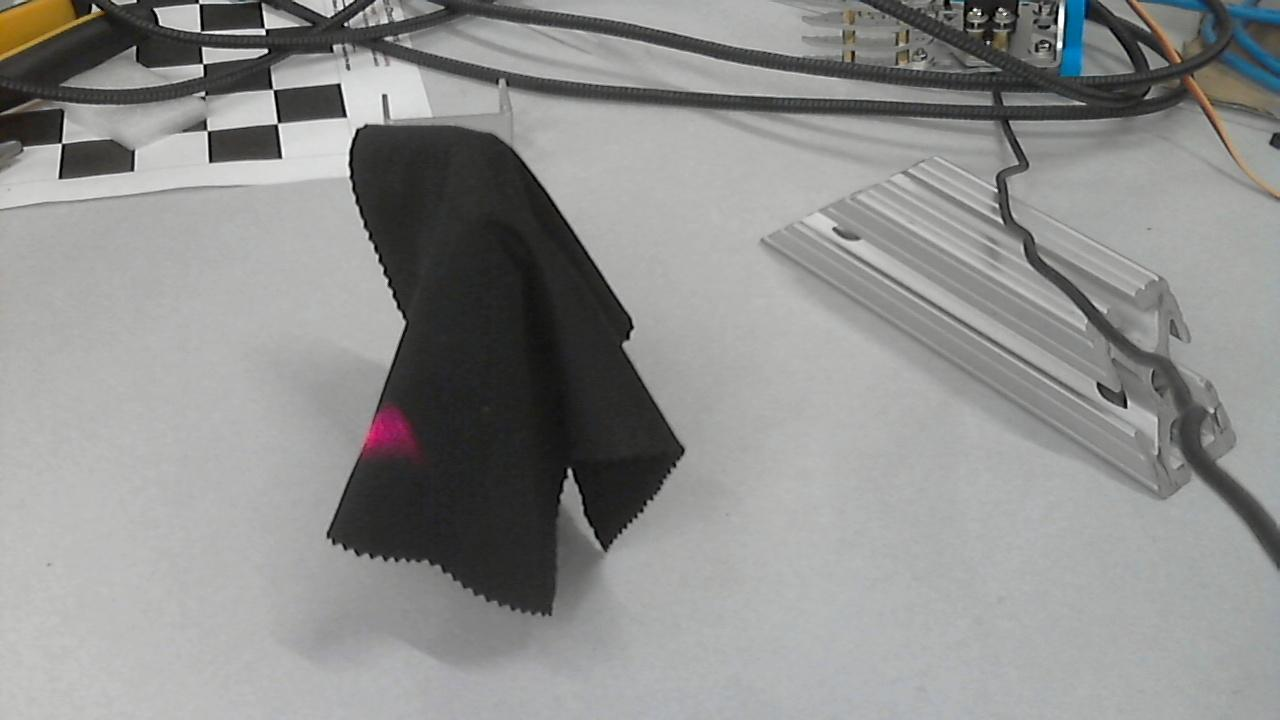Object microfiber cleaning cloth - Material fabric - Color black - Pdfname drQGv: (356, 400, 430, 476)
